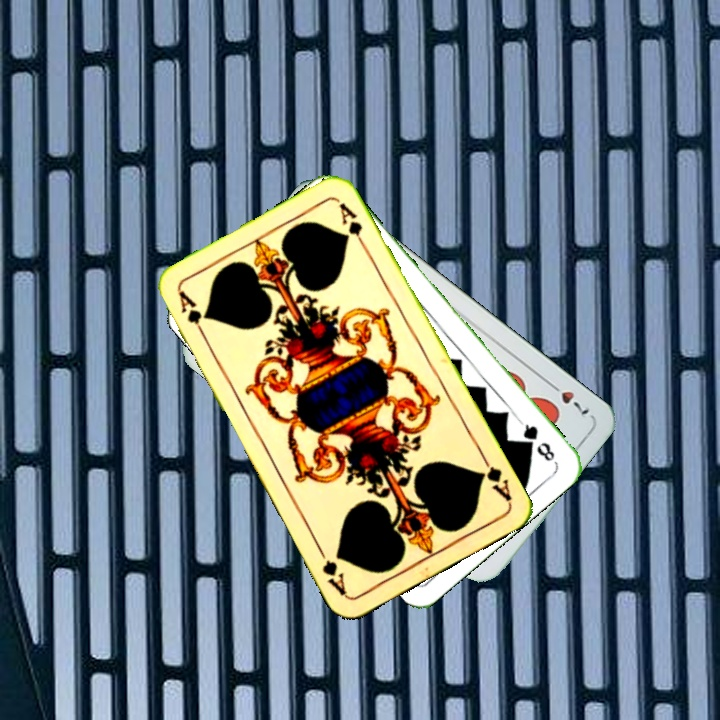G8: (515, 417, 558, 464)
GA: (475, 450, 514, 505), (174, 287, 210, 342)
H7: (543, 377, 593, 421)
